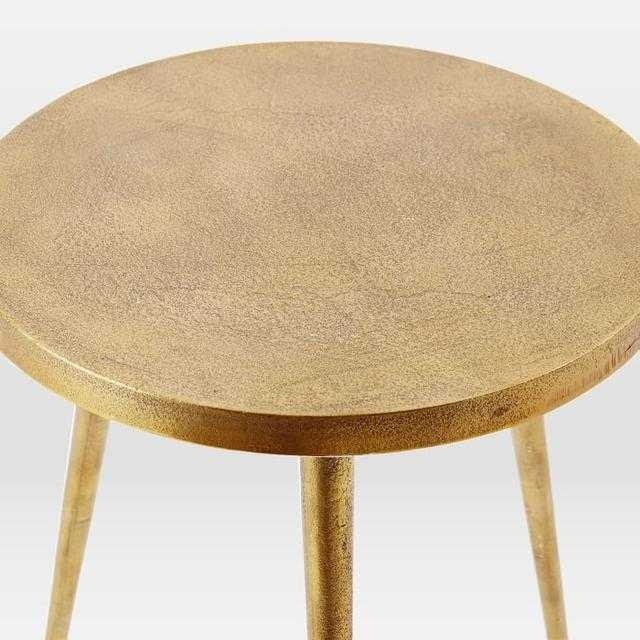obstacle: (0, 42, 639, 639)
